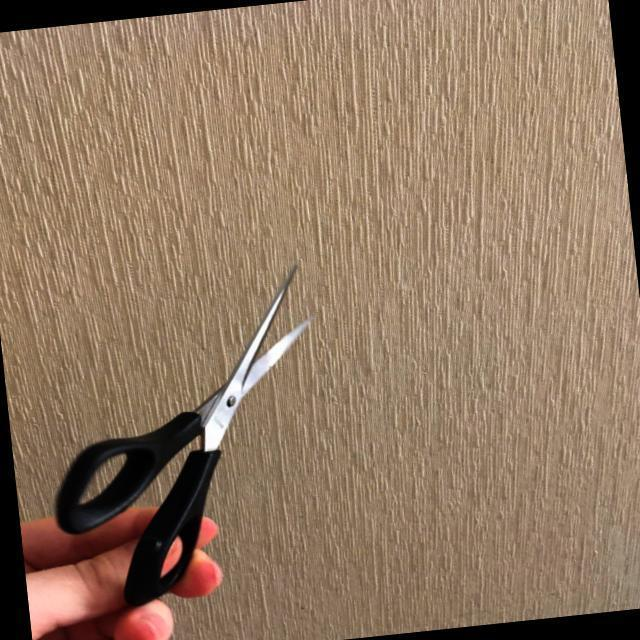scissors: (36, 259, 347, 612)
